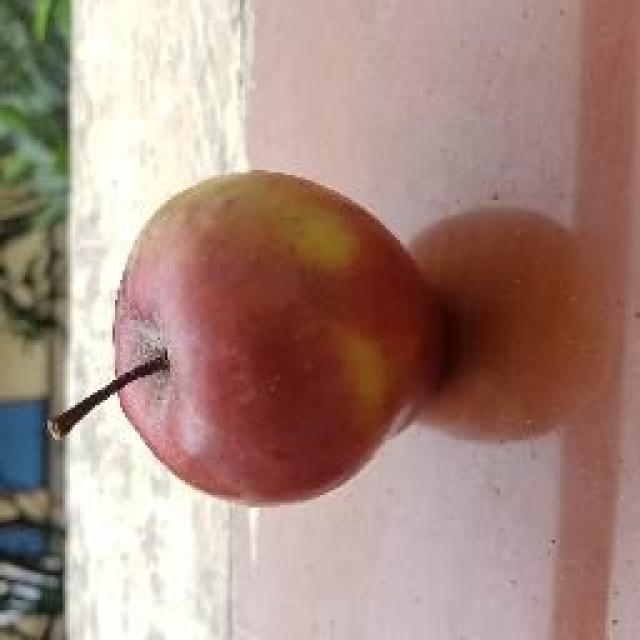Good_Apple: (116, 171, 441, 502)
